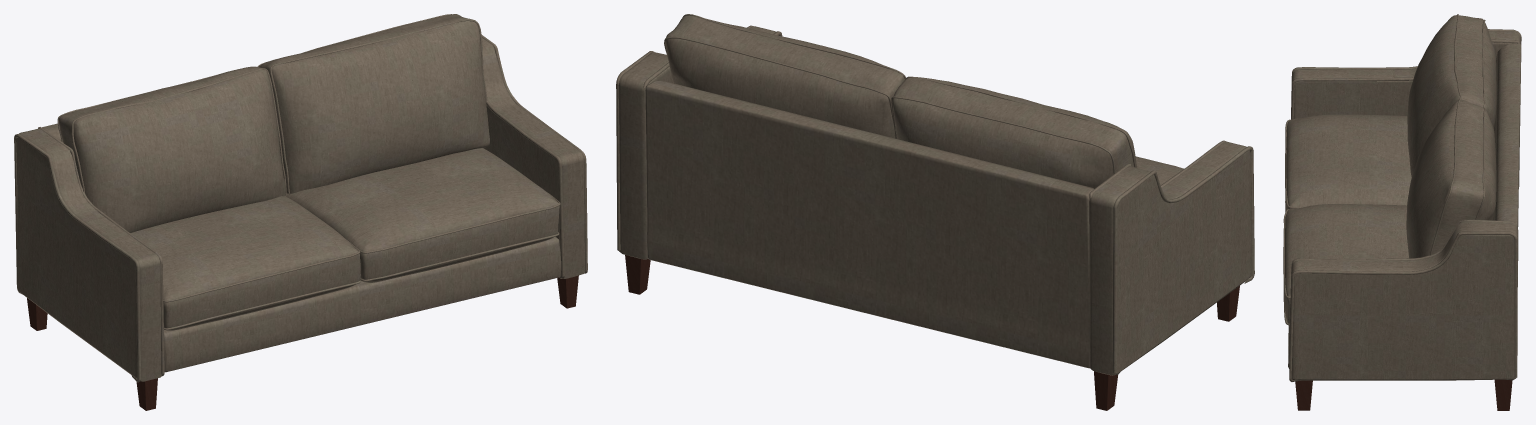
File: sofa_B07HZ5RM1D.glb
3 views of the same model, side by side, from view 1: azimuth 30°, elevation 25°; view 2: azimuth 150°, elevation 25°; view 3: azimuth 270°, elevation 25° (orthographic). The views are drawn at different scales.
Parts seen in each view (by area): view 1: RootNode; view 2: RootNode; view 3: RootNode.
Boxes of the visible parts, x1,y1,x2,y2 form: RootNode: (14,14,587,410); RootNode: (616,14,1254,410); RootNode: (1283,14,1521,410).
Size of the model in its own units: 2.18 by 1.07 by 1.07.
1 material, 1 textured.
